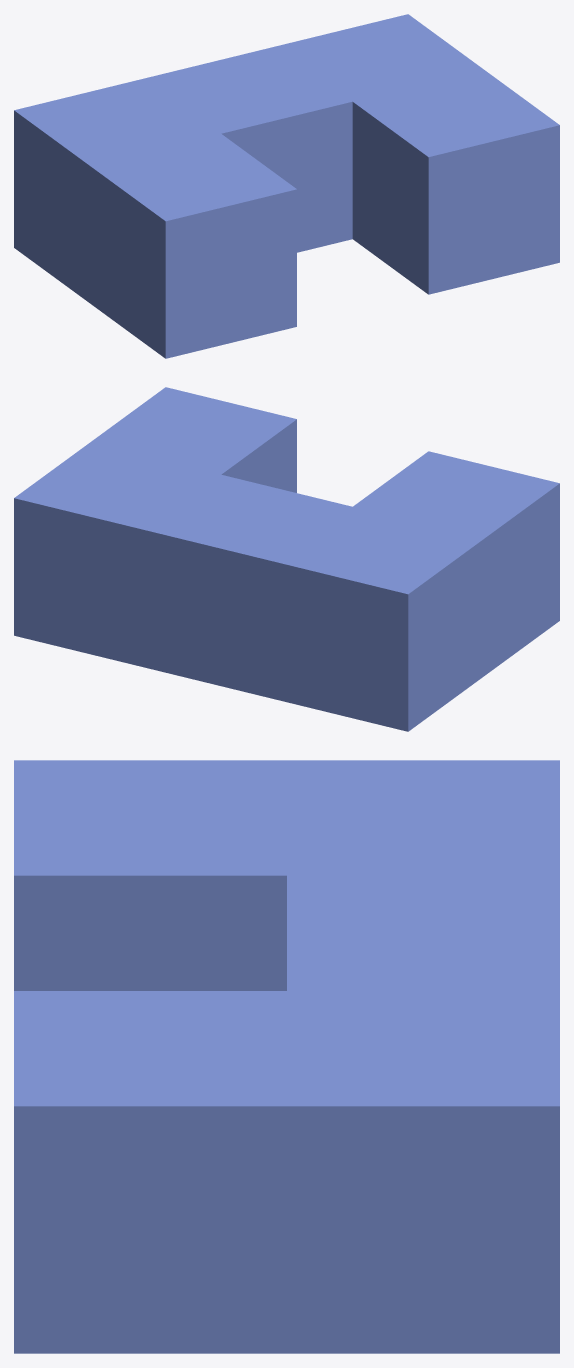
The picture shows the model from 3 angles, top to bottom: view 1: azimuth 30°, elevation 25°; view 2: azimuth 150°, elevation 25°; view 3: azimuth 270°, elevation 25°; orthographic projection. The views are drawn at different scales.
Visible parts, largest first — view 1: outest; view 2: outest; view 3: outest.
Boxes of the visible parts, <box> form: outest: <box>14,14,559,358</box>; outest: <box>14,387,559,731</box>; outest: <box>14,760,559,1353</box>.
Bounding box in the file's own units: 150 × 50 × 100.
